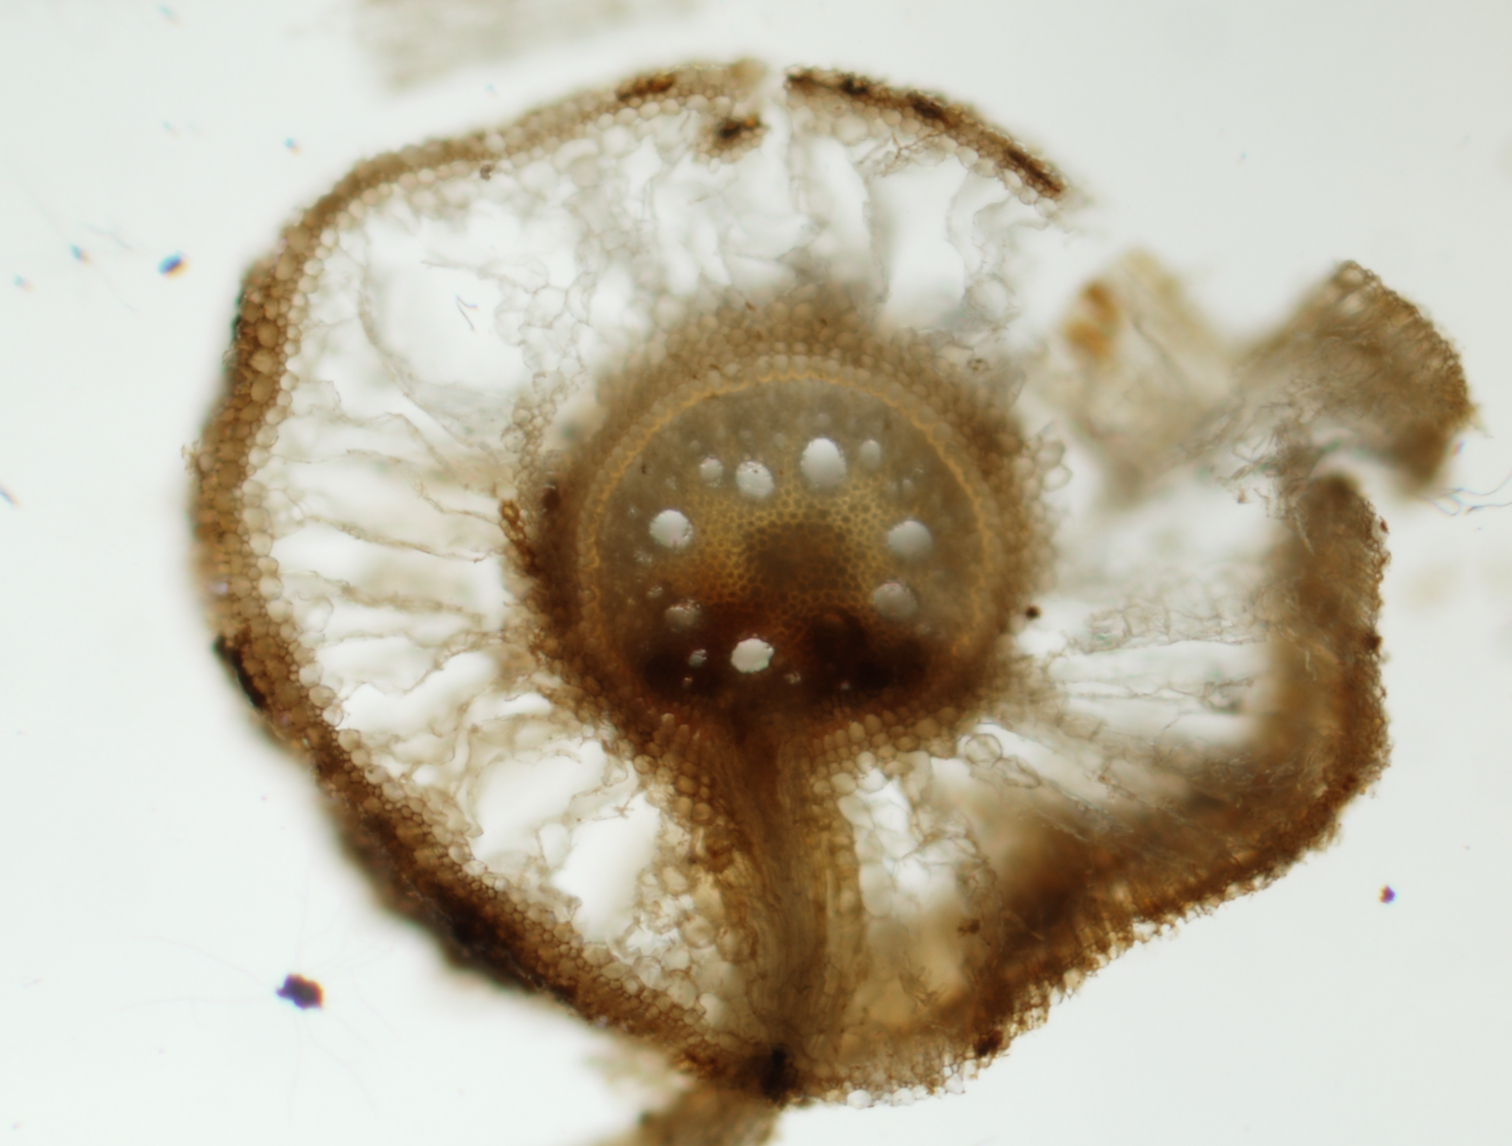lm: (801, 437, 847, 490), (886, 520, 934, 561), (648, 509, 693, 550), (870, 581, 919, 618), (736, 460, 775, 503), (730, 637, 774, 673), (665, 599, 704, 632), (698, 456, 723, 488)
